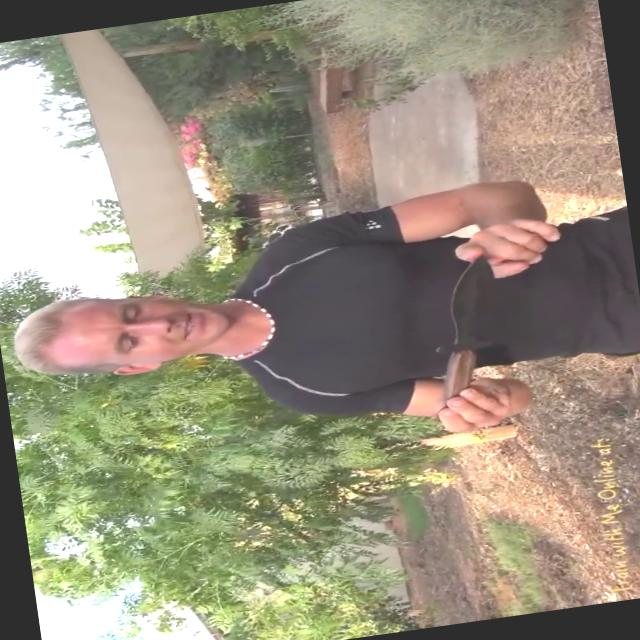knife: (399, 238, 532, 426)
